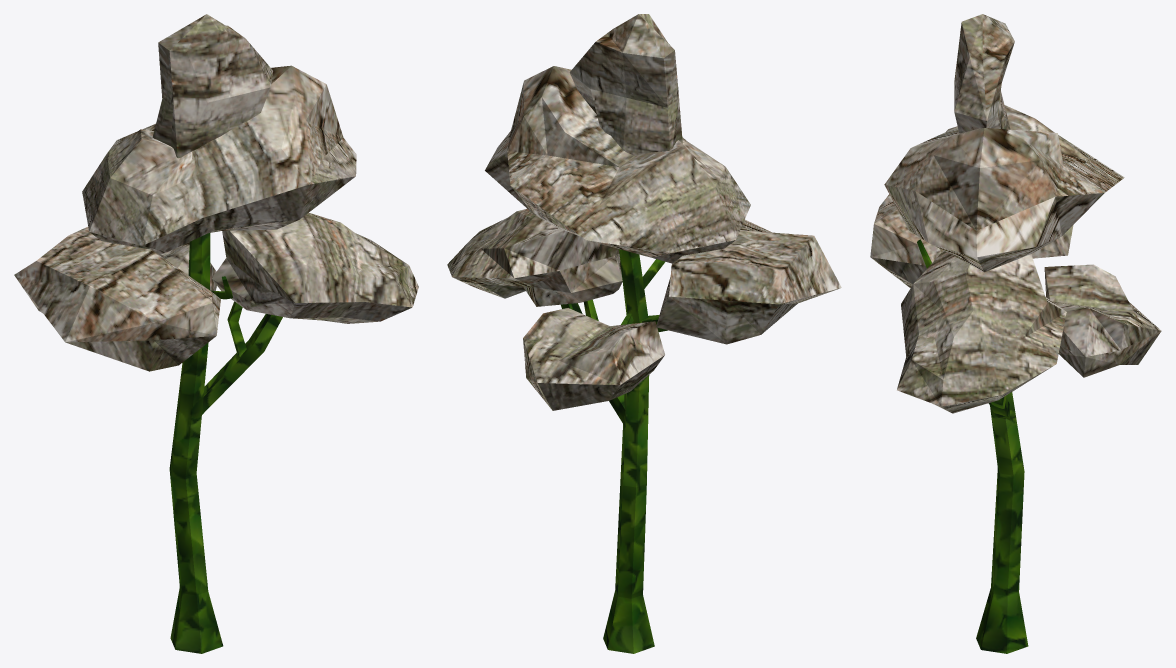
File: tree7.obj
3 renders of one model, left to right at view 1: azimuth 30°, elevation 25°; view 2: azimuth 150°, elevation 25°; view 3: azimuth 270°, elevation 25°, orthographic. The views are drawn at different scales.
Parts seen in each view (by area): view 1: Tree_temp_climate_009_Mesh.008; view 2: Tree_temp_climate_009_Mesh.008; view 3: Tree_temp_climate_009_Mesh.008.
Part boxes in pixels (box(x1,y1,x2,y2)): Tree_temp_climate_009_Mesh.008: box(14, 14, 418, 653); Tree_temp_climate_009_Mesh.008: box(447, 14, 841, 653); Tree_temp_climate_009_Mesh.008: box(870, 14, 1161, 653).
Bounding box in the file's own units: 3.46 × 5.75 × 2.42.
Materials: 1 (1 with a texture image).
